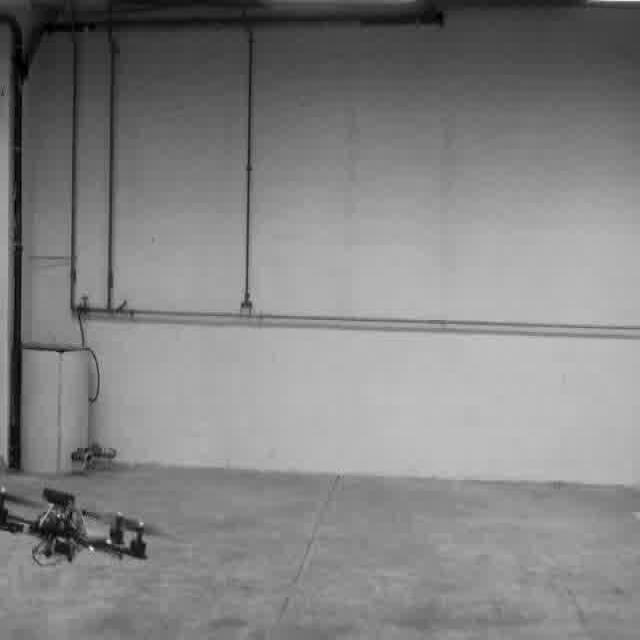drone: (0, 486, 174, 568)
